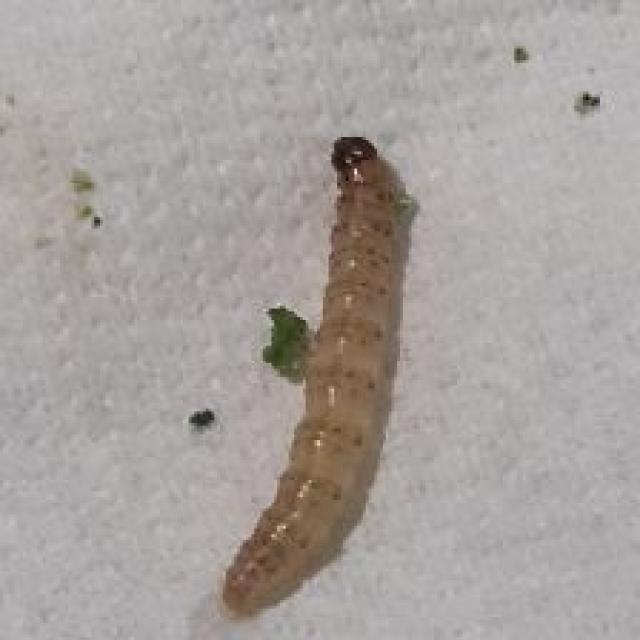white mucus: (198, 126, 442, 608)
